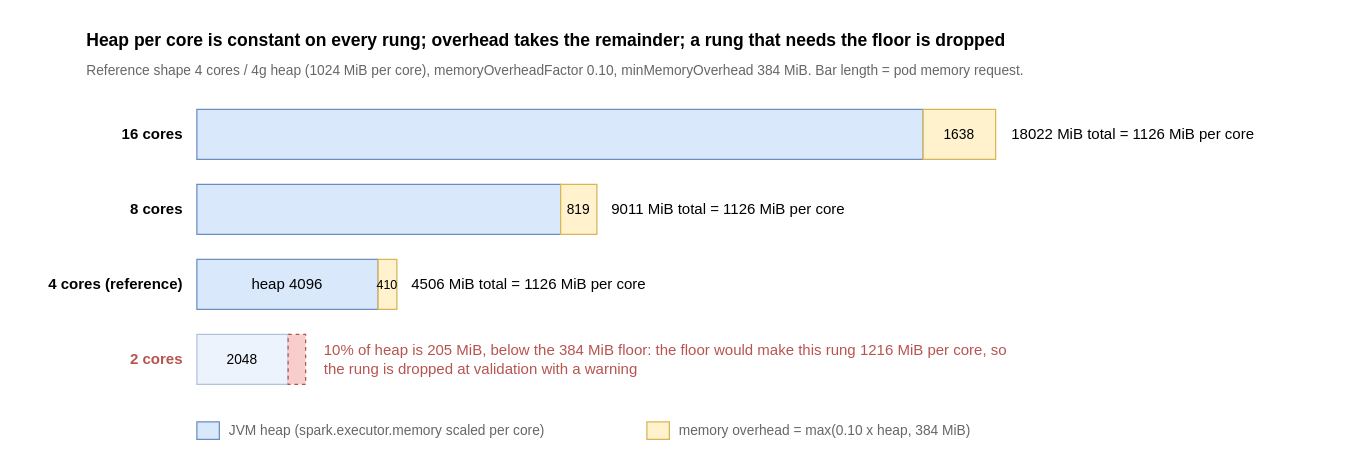
Image size: 1355x466. Some labels were removed from this diagram. Each missing label, with the centre of its shape:
"heap 16384 MiB" belongs at pixel 559 133.
"heap 8192 MiB" belongs at pixel 378 208.
